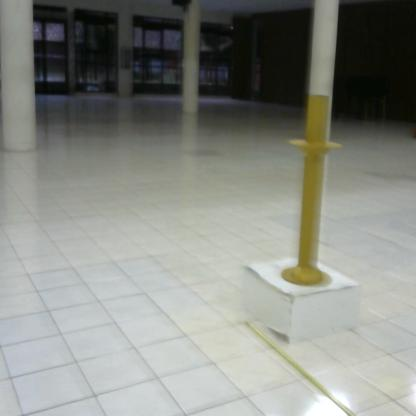pole: (269, 87, 356, 292)
